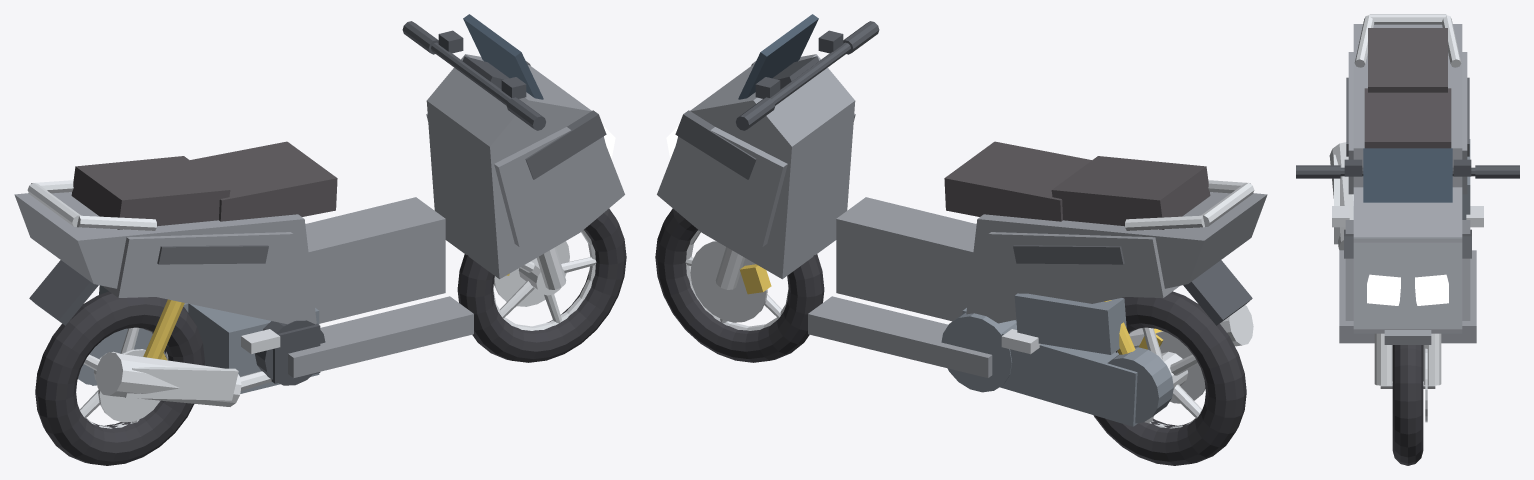
File: honda-pcx-160-abs-2021-2026.glb
The picture shows the model from 3 angles, left to right: view 1: azimuth 30°, elevation 25°; view 2: azimuth 150°, elevation 25°; view 3: azimuth 270°, elevation 25°; orthographic projection. The views are drawn at different scales.
Visible parts, largest first — view 1: Bodi_Utama, Roda_Ban, Jok_Motor, Cover_Knalpot, Aksen_Bodi, Master_Rem_Stang, Mesin_Blok, Velg_Roda, Cover_Radiator, Spakbor_Belakang, Windshield_Visor, Behel_Jok (+6 smaller); view 2: Bodi_Utama, Roda_Ban, Cover_CVT, Jok_Motor, Aksen_Bodi, Master_Rem_Stang, Piringan_Depan, Velg_Roda, Spakbor_Belakang, Windshield_Visor, Behel_Jok, Piringan_Belakang (+4 smaller); view 3: Bodi_Utama, Jok_Motor, Windshield_Visor, Roda_Ban, Master_Rem_Stang, Lampu_Depan, Suspensi_Depan, Behel_Jok, Cover_Knalpot, Aksen_Bodi, Spakbor_Depan, Footstep_Belakang (+1 smaller).
Boxes of the visible parts, x1,y1,x2,y2 form: Bodi_Utama: (14,54,624,377); Roda_Ban: (35,208,626,465); Jok_Motor: (71,141,337,229); Cover_Knalpot: (95,352,271,406); Aksen_Bodi: (157,61,606,264); Master_Rem_Stang: (402,21,545,130); Mesin_Blok: (188,303,319,393); Velg_Roda: (79,230,596,428); Cover_Radiator: (254,320,325,385); Spakbor_Belakang: (29,260,98,325); Windshield_Visor: (463,14,543,99); Behel_Jok: (27,180,156,230); Bodi_Utama: (657,54,1267,377); Roda_Ban: (655,208,1246,465); Cover_CVT: (941,293,1173,426); Jok_Motor: (944,141,1210,229); Aksen_Bodi: (675,61,1124,264); Master_Rem_Stang: (736,21,879,130); Piringan_Depan: (690,240,767,322); Velg_Roda: (685,230,1202,428); Spakbor_Belakang: (1183,260,1252,325); Windshield_Visor: (738,14,818,99); Behel_Jok: (1125,180,1254,230); Piringan_Belakang: (1155,331,1205,403); Bodi_Utama: (1339,24,1476,343); Jok_Motor: (1364,28,1451,148); Windshield_Visor: (1363,148,1452,202); Roda_Ban: (1392,345,1423,465); Master_Rem_Stang: (1296,159,1519,178); Lampu_Depan: (1367,274,1448,305); Suspensi_Depan: (1374,333,1441,388); Behel_Jok: (1354,14,1461,67); Cover_Knalpot: (1329,142,1353,250); Aksen_Bodi: (1344,77,1471,258); Spakbor_Depan: (1384,330,1431,344); Footstep_Belakang: (1332,206,1483,227).
Size of the model in its own units: 1.82 by 1 by 0.7.
